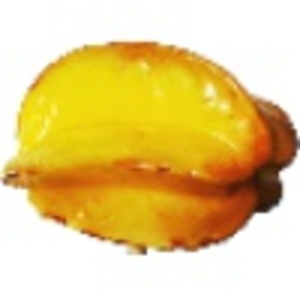carambola: (1, 38, 300, 258)
